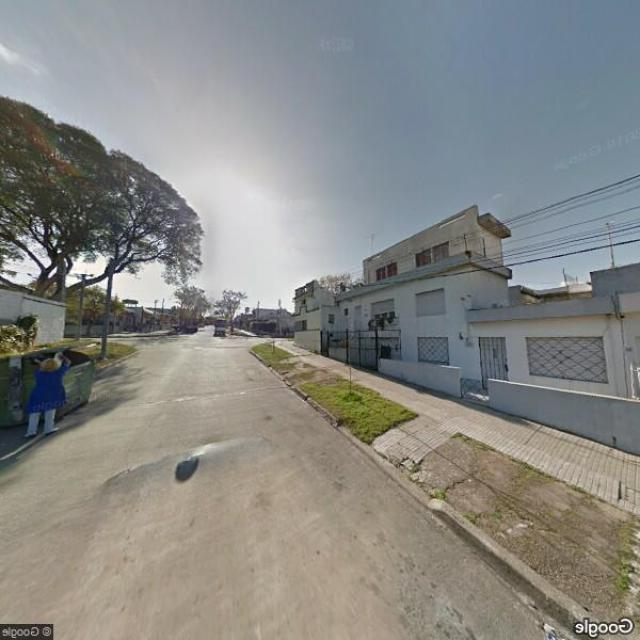garbage container: (0, 334, 104, 449)
